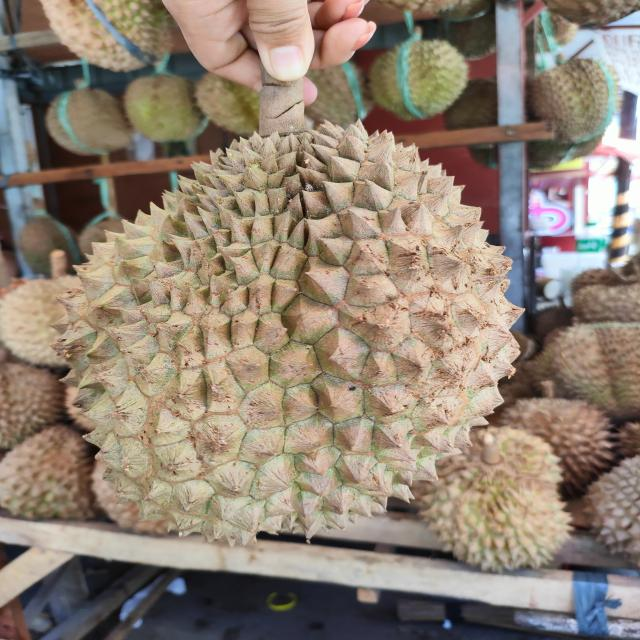mature: (57, 119, 522, 546)
